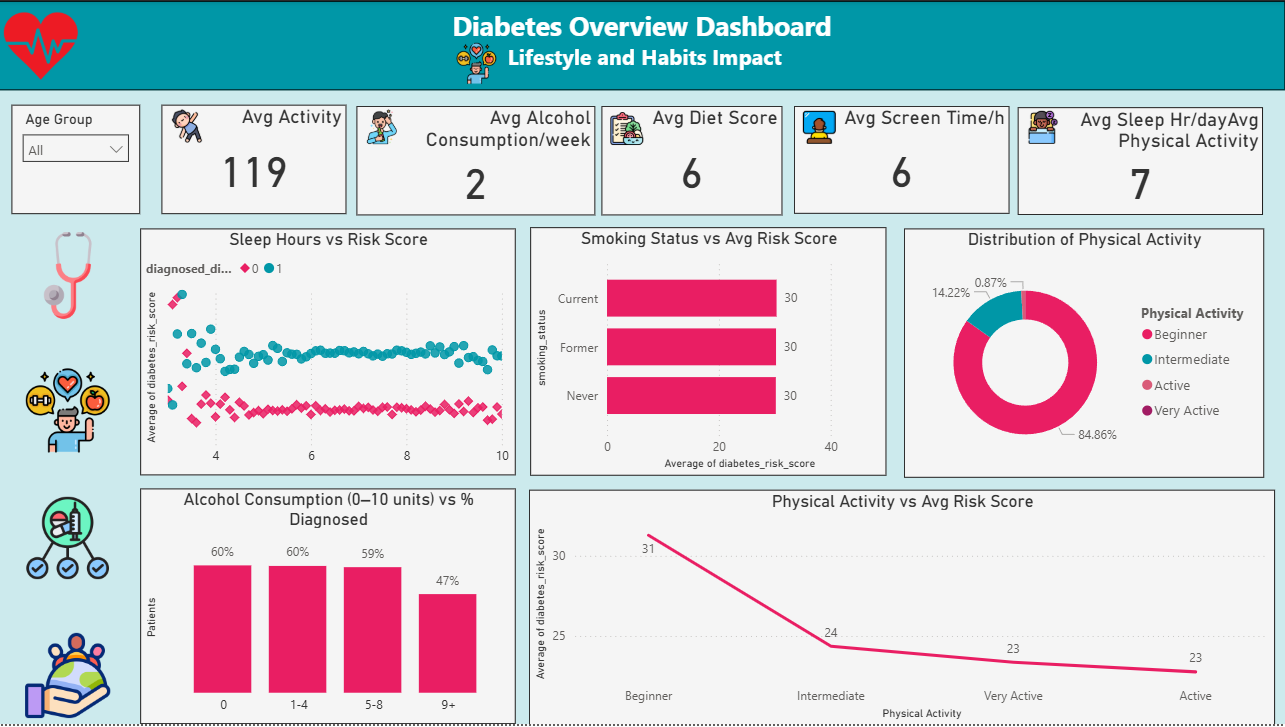

This screenshot's page, from the dashboard's own definition file:
{"tool":"powerbi","page":{"name":"Lifestyle","canvas":[1280,720],"ordinal":1},"visuals":[{"type":"textbox","box":[0,0,1280,88.9],"z":0,"group":"g1"},{"type":"image","box":[20.6,225,94.7,96.1],"z":0,"group":"g2"},{"type":"columnChart","title":"Alcohol Consumption (0–10 units) vs % Diagnosed","fields":{"Category":["diabetes diabetes_dataset.Alcohol Consumption"],"Y":["diabetes diabetes_dataset.% of Diagnosed Diabetes"]},"box":[140,485.8,373.2,234.6],"z":0},{"type":"image","box":[0,0,83.8,88.9],"z":1000,"group":"g1"},{"type":"card","title":"Avg Activity ","fields":{"Values":["Avg(diabetes diabetes_dataset.physical_activity_minutes_per_week)"]},"box":[161.9,102.9,183.9,108.4],"z":1000},{"type":"image","box":[20.6,359.5,94.7,96.1],"z":1000,"group":"g2"},{"type":"donutChart","title":"Distribution of Physical Activity ","fields":{"Y":["CountNonNull(diabetes diabetes_dataset.PATIENT_ID)"],"Category":["diabetes diabetes_dataset.Physical Activity"]},"box":[900.2,226.4,358.1,248.4],"z":2000},{"type":"image","box":[20.6,485.7,94.7,96.1],"z":2000,"group":"g2"},{"type":"card","title":"Avg Diet Score","fields":{"Values":["Avg(diabetes diabetes_dataset.diet_score)"]},"box":[599.7,104.3,179.8,108.4],"z":3000},{"type":"image","box":[20.6,622.9,94.7,96.1],"z":3000,"group":"g2"},{"type":"lineChart","title":"Physical Activity vs Avg Risk Score","fields":{"Y":["Avg(diabetes diabetes_dataset.diabetes_risk_score)"],"Category":["diabetes diabetes_dataset.Physical Activity"]},"box":[527.2,486,742.5,234.6],"z":4000},{"type":"card","title":"Avg Screen Time/h","fields":{"Values":["Avg(diabetes diabetes_dataset.screen_time_hours_per_day)"]},"box":[791.8,104.3,214.1,107],"z":5000},{"type":"group","id":"g1","title":"Group 1","box":[0,0,1280,88.9],"z":6000},{"type":"card","title":"Avg Alcohol Consumption/week","fields":{"Values":["Avg(diabetes diabetes_dataset.alcohol_consumption_per_week)"]},"box":[355.4,104.3,237.4,108.4],"z":7000},{"type":"card","title":"Avg Sleep Hr/dayAvg Physical Activity","fields":{"Values":["Avg(diabetes diabetes_dataset.sleep_hours_per_day)"]},"box":[1014.1,105.7,244.3,107],"z":8000},{"type":"clusteredBarChart","title":"Smoking Status vs Avg Risk Score","fields":{"Category":["diabetes diabetes_dataset.smoking_status"],"Y":["Avg(diabetes diabetes_dataset.diabetes_risk_score)"]},"box":[528.5,225.6,354.5,247.5],"z":9000},{"type":"image","box":[450.3,36.1,49.8,52.2],"z":10000},{"type":"scatterChart","title":"Sleep Hours vs Risk Score","fields":{"Y":["Avg(diabetes diabetes_dataset.diabetes_risk_score)"],"X":["diabetes diabetes_dataset.sleep_hours_per_day"],"Series":["diabetes diabetes_dataset.diagnosed_diabetes"]},"box":[140,226.4,373.2,245.6],"z":11000},{"type":"image","box":[161.9,102.9,50.8,42.5],"z":12000},{"type":"image","box":[355.4,102.9,50.8,43.9],"z":13000},{"type":"image","box":[599.7,105.7,50.8,42.5],"z":14000},{"type":"image","box":[791.8,104.3,50.8,42.5],"z":15000},{"type":"image","box":[1014.1,104.3,50.8,42.5],"z":16000},{"type":"slicer","fields":{"Values":["diabetes diabetes_dataset.Age Group"]},"box":[12.3,102.9,127.6,108.4],"z":17000},{"type":"group","id":"g2","title":"Group 2","box":[20.6,225,94.7,494],"z":18000}]}

Visuals, with their boxes in screenshot pixels (x1, y1, x2, y2), scaled from the page's 1280x720 canvas onto the 1285x727 screenshot:
textbox: 0 0 1284 90
image: 21 227 116 324
"Alcohol Consumption (0–10 units) vs % Diagnosed" columnChart: 141 491 515 726
image: 0 0 84 90
"Avg Activity " card: 163 104 347 213
image: 21 363 116 460
"Distribution of Physical Activity " donutChart: 904 229 1263 479
image: 21 490 116 587
"Avg Diet Score" card: 602 105 783 215
image: 21 629 116 726
"Physical Activity vs Avg Risk Score" lineChart: 529 491 1275 726
"Avg Screen Time/h" card: 795 105 1010 213
"Group 1" group: 0 0 1284 90
"Avg Alcohol Consumption/week" card: 357 105 595 215
"Avg Sleep Hr/dayAvg Physical Activity" card: 1018 107 1263 215
"Smoking Status vs Avg Risk Score" clusteredBarChart: 531 228 886 478
image: 452 36 502 89
"Sleep Hours vs Risk Score" scatterChart: 141 229 515 477
image: 163 104 214 147
image: 357 104 408 148
image: 602 107 653 150
image: 795 105 846 148
image: 1018 105 1069 148
slicer - diabetes diabetes_dataset.Age Group: 12 104 140 213
"Group 2" group: 21 227 116 726
